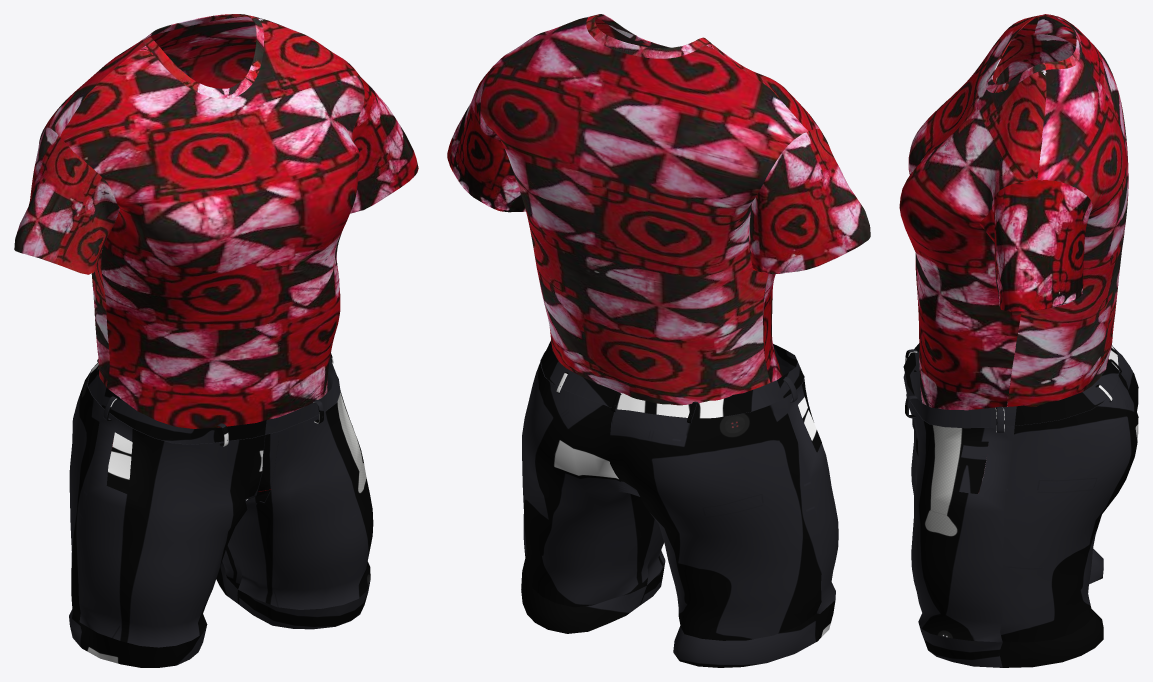
File: tshirt_and_material_shorts.glb
The picture shows the model from 3 angles, left to right: view 1: azimuth 30°, elevation 25°; view 2: azimuth 150°, elevation 25°; view 3: azimuth 270°, elevation 25°; orthographic projection. The views are drawn at different scales.
Parts seen in each view (by area): view 1: all; view 2: all; view 3: all.
Boxes of the visible parts, x1,y1,x2,y2 form: all: (14, 14, 418, 667); all: (447, 14, 870, 667); all: (899, 14, 1138, 667).
Size of the model in its own units: 0.4212 by 0.577 by 0.2191.
Materials: 2 (2 with a texture image).
